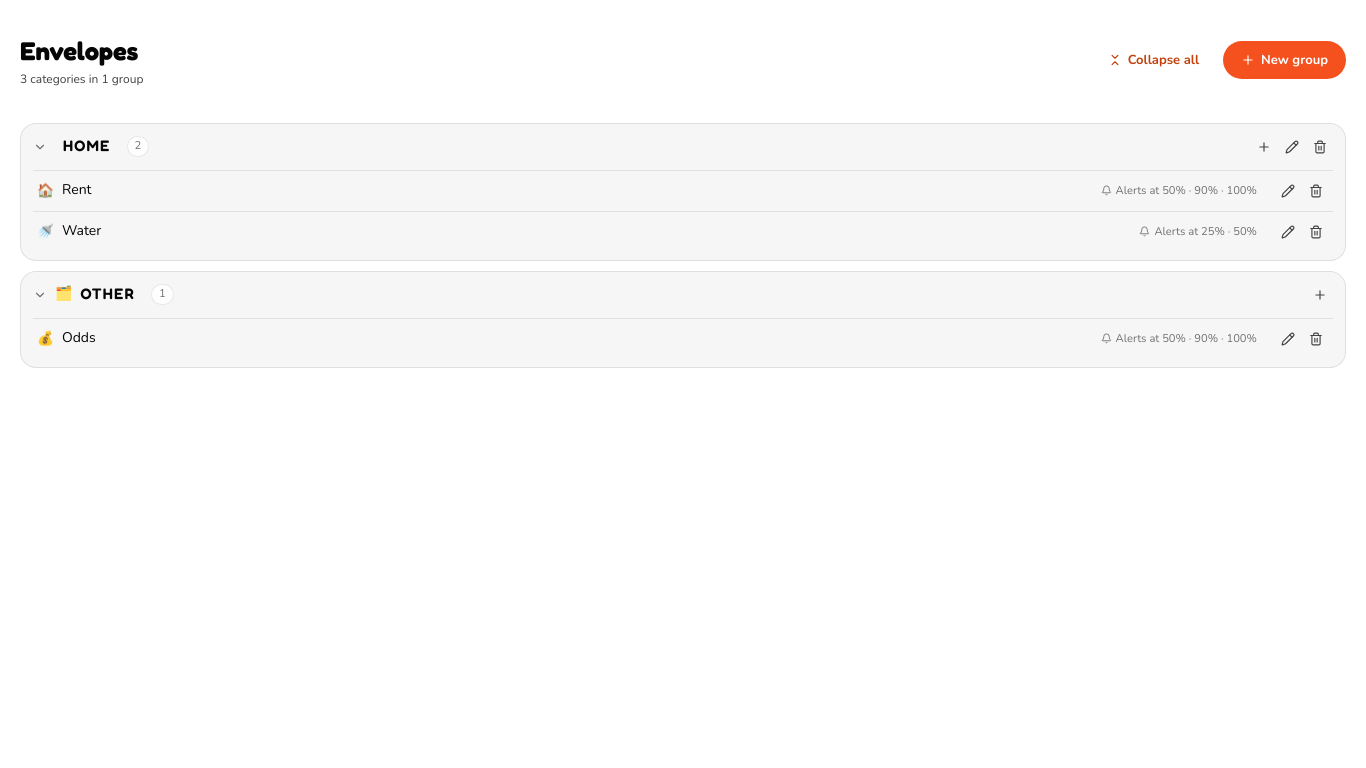
EnvelopesPage › surfaces a written message, never the raw server text
Click the button "New group" at (1285, 60), box [1223,41,1346,79]
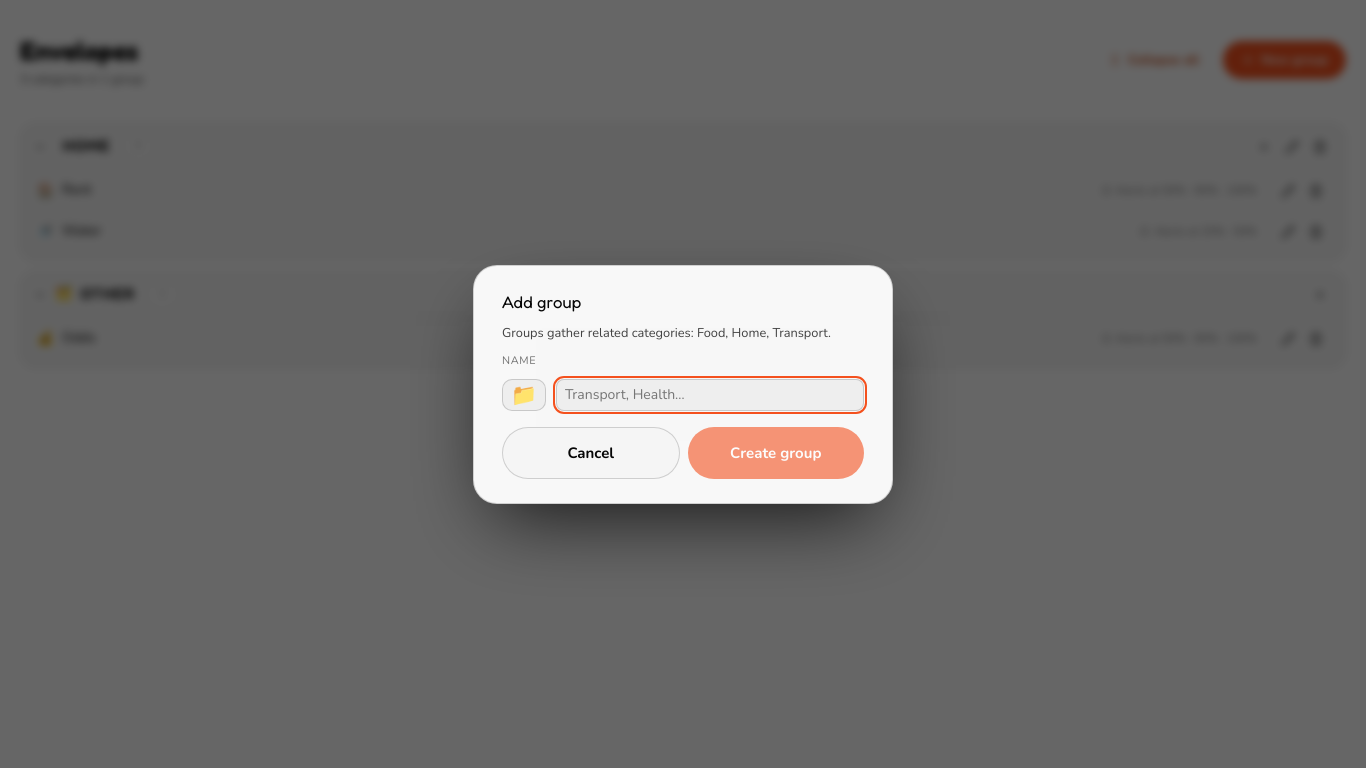
Type "Home" into the field with placeholder "Transport, Health…" at (710, 394), box [556,378,864,410]
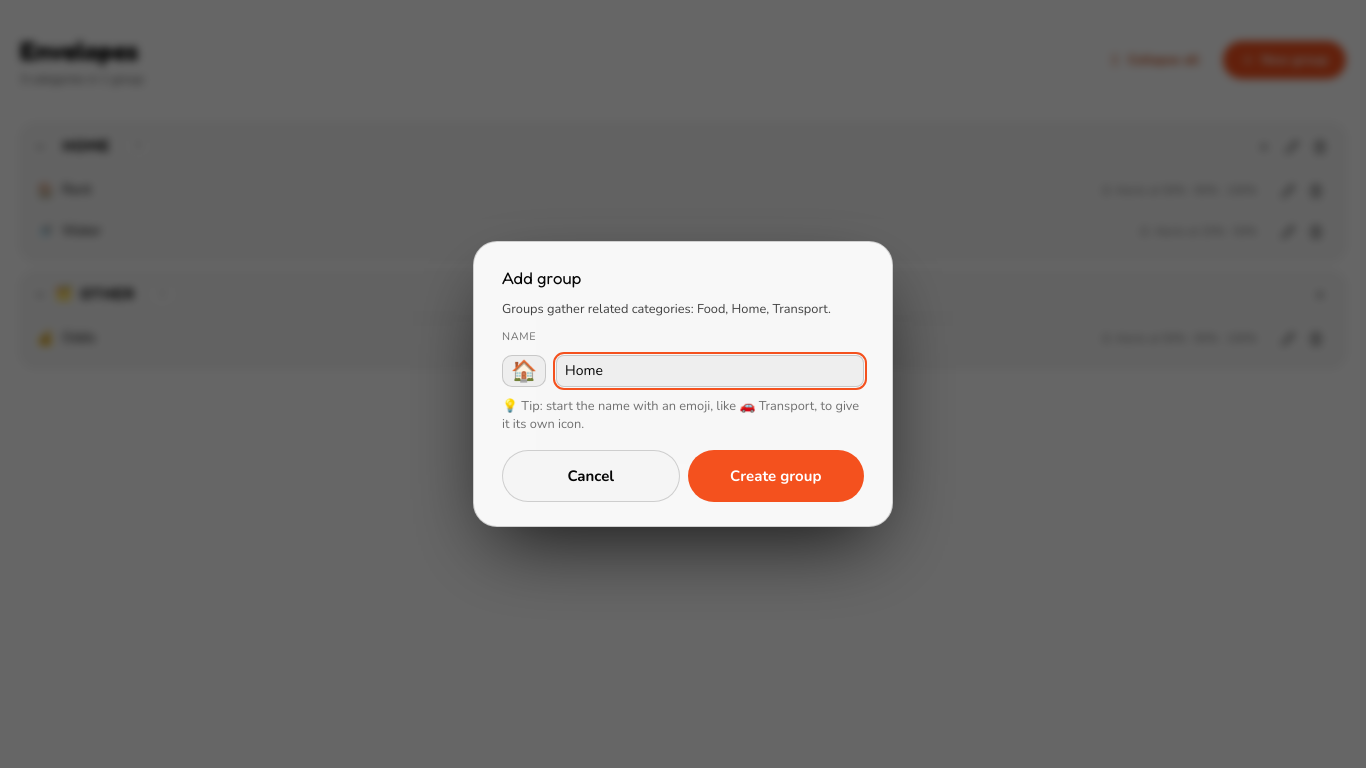
Press Enter
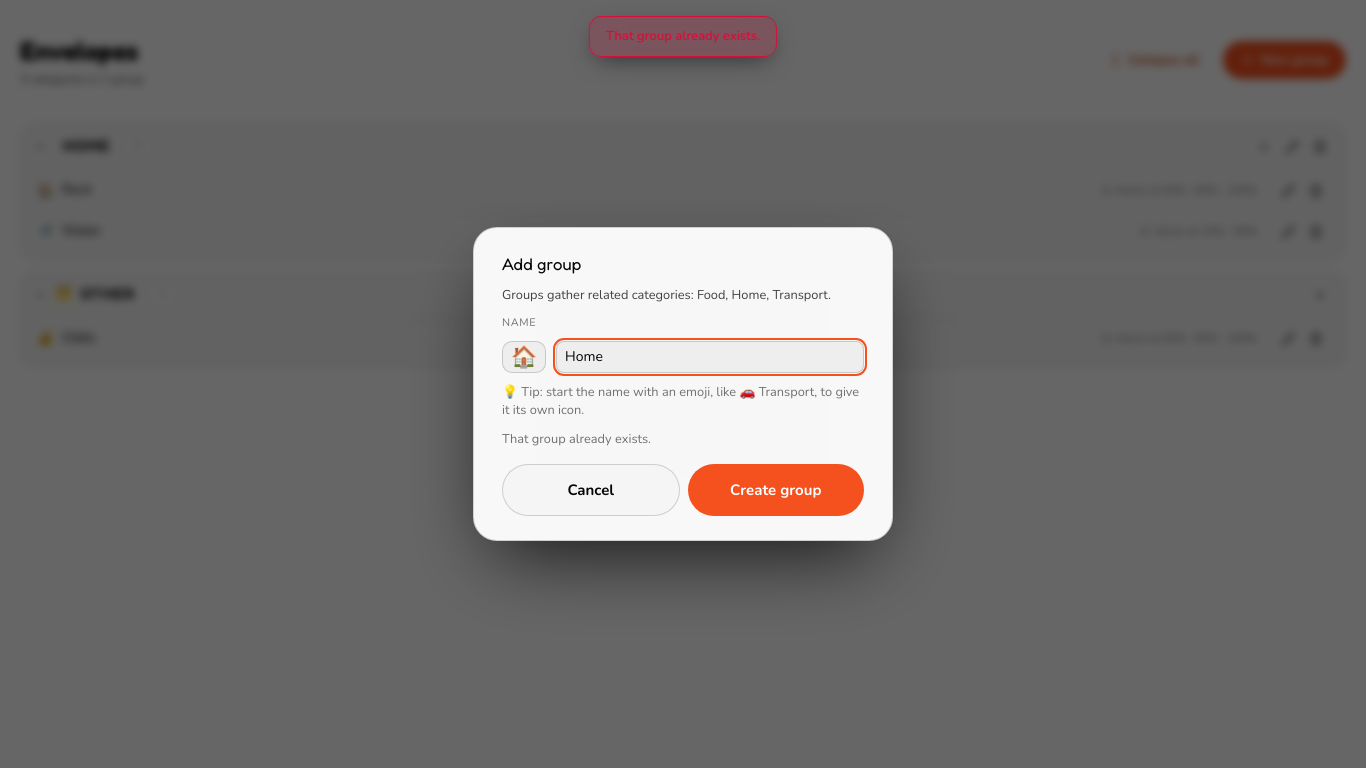
Expected: the message "That group already exists." in the row of "Envelopes" does not show "409", [589,16,777,57]
Expected: the message "That group already exists." in the row of "Envelopes" is shown, [606,27,760,45]
Expected: the message "That group already exists." below "🚗 Transport" is shown, [502,430,651,448]
